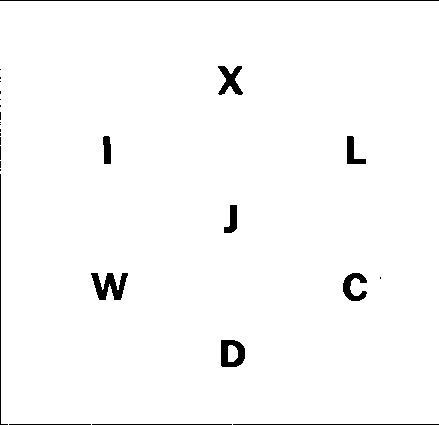I: (96, 132, 123, 175)
